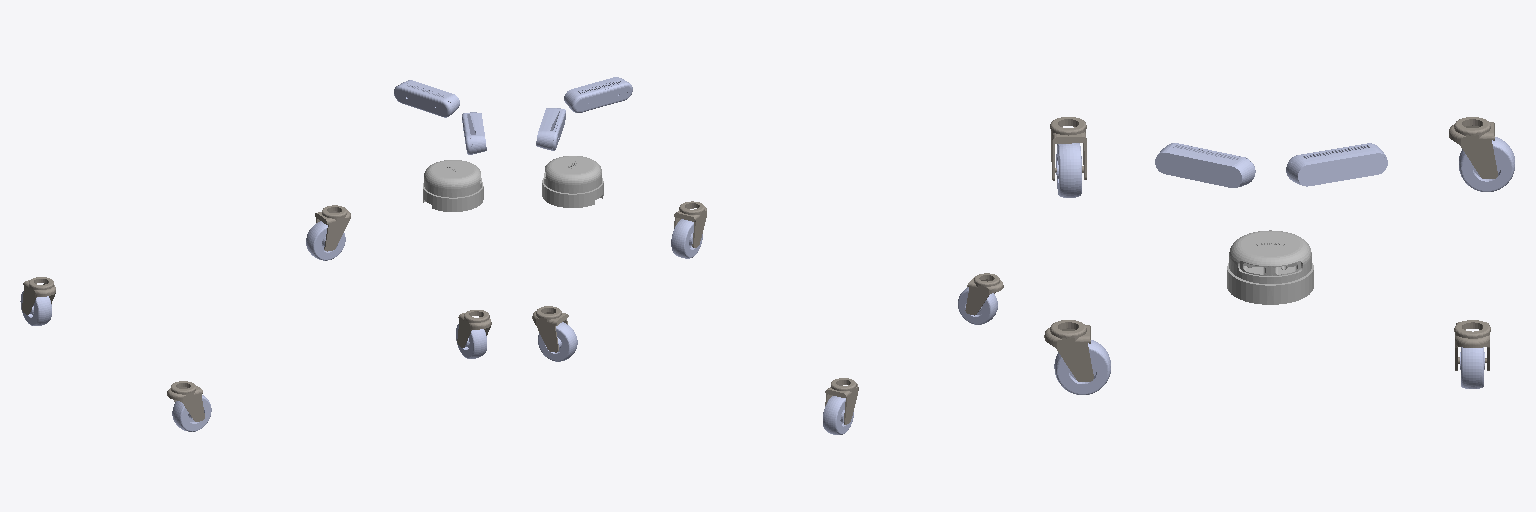
The robot description file, URDF, robot "finall":
<?xml version="1.0" encoding="utf-8"?>
<!-- This URDF was automatically created by SolidWorks to URDF Exporter! Originally created by [author] ([email redacted]) 
     Commit Version: 1.6.0-4-g7f85cfe  Build Version: 1.6.7995.38578
     For more information, please see http://wiki.ros.org/sw_urdf_exporter -->
<robot
  name="finall">

  <!-- base_link -->
  <link
    name="base_link">
    <inertial>
      <origin
        xyz="0.0423492651141056 -0.000629070656696568 0.448325523519396"
        rpy="0 0 0" />
      <mass
        value="13.3810993131387" />
      <inertia
        ixx="0.279429636735087"
        ixy="-4.46482663329585E-05"
        ixz="0.00338366620089039"
        iyy="0.334833172062916"
        iyz="7.7945750135019E-06"
        izz="0.495525363460596" />
    </inertial>
    <visual>
      <origin
        xyz="0 0 0"
        rpy="0 0 0" />
      <geometry>
        <mesh
          filename="package://finall/meshes/base_link.STL" />
      </geometry>
      <material
        name="">
        <color
          rgba="0.6 0.6 0.6 1" />
      </material>
    </visual>
    <collision>
      <origin
        xyz="0 0 0"
        rpy="0 0 0" />
      <geometry>
        <mesh
          filename="package://finall/meshes/base_link.STL" />
      </geometry>
    </collision>
  </link>

  <!-- fl_caster_holder_link -->
  <link
    name="fl_caster_holder_link">
    <inertial>
      <origin
        xyz="-0.00421505477259171 -0.0313090196734244 -3.92674485401832E-05"
        rpy="0 0 0" />
      <mass
        value="0.00858424854611749" />
      <inertia
        ixx="2.29970280094413E-06"
        ixy="4.04458941956851E-07"
        ixz="4.8440768889955E-12"
        iyy="2.0262374837434E-06"
        iyz="3.99725673641126E-13"
        izz="2.10686447199303E-06" />
    </inertial>
    <visual>
      <origin
        xyz="0 0 0"
        rpy="0 0 0" />
      <geometry>
        <mesh
          filename="package://finall/meshes/fl_caster_holder_link.STL" />
      </geometry>
      <material
        name="">
        <color
          rgba="0.647058823529412 0.619607843137255 0.588235294117647 1" />
      </material>
    </visual>
    <collision>
      <origin
        xyz="0 0 0"
        rpy="0 0 0" />
      <geometry>
        <mesh
          filename="package://finall/meshes/fl_caster_holder_link.STL" />
      </geometry>
    </collision>
  </link>
  <joint
    name="fl_caster_holder_joint"
    type="continuous">
    <origin
      xyz="0.215225039750229 0.1771 -0.0145388598876857"
      rpy="-1.5707963267949 0 0" />
    <parent
      link="base_link" />
    <child
      link="fl_caster_holder_link" />
    <axis
      xyz="0 1 0" />
  </joint>

  <!-- fl_caster_wheel_link -->
  <link
    name="fl_caster_wheel_link">
    <inertial>
      <origin
        xyz="-4.75314232417645E-16 3.33066907387547E-16 5.55111512312578E-17"
        rpy="0 0 0" />
      <mass
        value="0.0334173711421252" />
      <inertia
        ixx="1.06393339607218E-05"
        ixy="-1.64491415193783E-21"
        ixz="-1.4271892951523E-21"
        iyy="6.33951611873326E-06"
        iyz="-2.64697796016969E-22"
        izz="6.33951611873326E-06" />
    </inertial>
    <visual>
      <origin
        xyz="0 0 0"
        rpy="0 0 0" />
      <geometry>
        <mesh
          filename="package://finall/meshes/fl_caster_wheel_link.STL" />
      </geometry>
      <material
        name="">
        <color
          rgba="0.792156862745098 0.819607843137255 0.933333333333333 1" />
      </material>
    </visual>
    <collision>
      <origin
        xyz="0 0 0"
        rpy="0 0 0" />
      <geometry>
        <mesh
          filename="package://finall/meshes/fl_caster_wheel_link.STL" />
      </geometry>
    </collision>
  </link>
  <joint
    name="fl_caster_wheel_joint"
    type="continuous">
    <origin
      xyz="-0.0126379418294896 -0.00814162274155295 0"
      rpy="0.152452190017873 -1.5707963267949 0" />
    <parent
      link="fl_caster_holder_link" />
    <child
      link="fl_caster_wheel_link" />
    <axis
      xyz="1 0 0" />
  </joint>

  <!-- fr_caster_holder_link -->
  <link
    name="fr_caster_holder_link">
    <inertial>
      <origin
        xyz="-0.00421505477258211 -0.0313090196734245 -3.9267448532887E-05"
        rpy="0 0 0" />
      <mass
        value="0.00858424854611759" />
      <inertia
        ixx="2.29970280094413E-06"
        ixy="4.04458941956856E-07"
        ixz="4.8440768868714E-12"
        iyy="2.02623748374343E-06"
        iyz="3.99725673463493E-13"
        izz="2.10686447199304E-06" />
    </inertial>
    <visual>
      <origin
        xyz="0 0 0"
        rpy="0 0 0" />
      <geometry>
        <mesh
          filename="package://finall/meshes/fr_caster_holder_link.STL" />
      </geometry>
      <material
        name="">
        <color
          rgba="0.647058823529412 0.619607843137255 0.588235294117647 1" />
      </material>
    </visual>
    <collision>
      <origin
        xyz="0 0 0"
        rpy="0 0 0" />
      <geometry>
        <mesh
          filename="package://finall/meshes/fr_caster_holder_link.STL" />
      </geometry>
    </collision>
  </link>
  <joint
    name="fr_caster_holder_joint"
    type="continuous">
    <origin
      xyz="0.214825039750222 -0.177099999999992 -0.0145388598876857"
      rpy="-1.57079632679486 0 -1.5707963267949" />
    <parent
      link="base_link" />
    <child
      link="fr_caster_holder_link" />
    <axis
      xyz="0 1 0" />
  </joint>

  <!-- fr_caster_wheel_link -->
  <link
    name="fr_caster_wheel_link">
    <inertial>
      <origin
        xyz="9.99200722162641E-16 0 0"
        rpy="0 0 0" />
      <mass
        value="0.0334173711421252" />
      <inertia
        ixx="1.06393339607219E-05"
        ixy="-1.42607716470482E-21"
        ixz="5.96783662533785E-22"
        iyy="6.33951611873328E-06"
        iyz="-1.16467030247466E-21"
        izz="6.33951611873328E-06" />
    </inertial>
    <visual>
      <origin
        xyz="0 0 0"
        rpy="0 0 0" />
      <geometry>
        <mesh
          filename="package://finall/meshes/fr_caster_wheel_link.STL" />
      </geometry>
      <material
        name="">
        <color
          rgba="0.792156862745098 0.819607843137255 0.933333333333333 1" />
      </material>
    </visual>
    <collision>
      <origin
        xyz="0 0 0"
        rpy="0 0 0" />
      <geometry>
        <mesh
          filename="package://finall/meshes/fr_caster_wheel_link.STL" />
      </geometry>
    </collision>
  </link>
  <joint
    name="fr_caster_wheel_joint"
    type="continuous">
    <origin
      xyz="-0.0126379418294887 -0.00814162274155716 0"
      rpy="0.233129638410502 -1.5707963267949 0" />
    <parent
      link="fr_caster_holder_link" />
    <child
      link="fr_caster_wheel_link" />
    <axis
      xyz="1 0 0" />
  </joint>

  <!-- bl_caster_holder_link -->
  <link
    name="bl_caster_holder_link">
    <inertial>
      <origin
        xyz="-0.00421505477258809 -0.0313090196734239 -3.92674485399924E-05"
        rpy="0 0 0" />
      <mass
        value="0.00858424854611757" />
      <inertia
        ixx="2.29970280094412E-06"
        ixy="4.04458941956852E-07"
        ixz="4.84407687965927E-12"
        iyy="2.02623748374342E-06"
        iyz="3.99725670074543E-13"
        izz="2.10686447199303E-06" />
    </inertial>
    <visual>
      <origin
        xyz="0 0 0"
        rpy="0 0 0" />
      <geometry>
        <mesh
          filename="package://finall/meshes/bl_caster_holder_link.STL" />
      </geometry>
      <material
        name="">
        <color
          rgba="0.647058823529412 0.619607843137255 0.588235294117647 1" />
      </material>
    </visual>
    <collision>
      <origin
        xyz="0 0 0"
        rpy="0 0 0" />
      <geometry>
        <mesh
          filename="package://finall/meshes/bl_caster_holder_link.STL" />
      </geometry>
    </collision>
  </link>
  <joint
    name="bl_caster_holder_joint"
    type="continuous">
    <origin
      xyz="-0.20600856677299 0.177100000000002 -0.0145388598877"
      rpy="-1.57079632679486 0 -1.5707963267949" />
    <parent
      link="base_link" />
    <child
      link="bl_caster_holder_link" />
    <axis
      xyz="0 1 0" />
  </joint>

  <!-- bl_caster_wheel_link -->
  <link
    name="bl_caster_wheel_link">
    <inertial>
      <origin
        xyz="-1.88737914186277E-15 -4.30211422042248E-16 -4.66293670342566E-15"
        rpy="0 0 0" />
      <mass
        value="0.0334173711421252" />
      <inertia
        ixx="1.06393339607218E-05"
        ixy="2.26157180953148E-22"
        ixz="-3.95584656142489E-21"
        iyy="6.33951611873327E-06"
        iyz="-2.11758236813575E-22"
        izz="6.33951611873327E-06" />
    </inertial>
    <visual>
      <origin
        xyz="0 0 0"
        rpy="0 0 0" />
      <geometry>
        <mesh
          filename="package://finall/meshes/bl_caster_wheel_link.STL" />
      </geometry>
      <material
        name="">
        <color
          rgba="0.792156862745098 0.819607843137255 0.933333333333333 1" />
      </material>
    </visual>
    <collision>
      <origin
        xyz="0 0 0"
        rpy="0 0 0" />
      <geometry>
        <mesh
          filename="package://finall/meshes/bl_caster_wheel_link.STL" />
      </geometry>
    </collision>
  </link>
  <joint
    name="bl_caster_wheel_joint"
    type="continuous">
    <origin
      xyz="-0.0126379418294879 -0.00814162274155106 0"
      rpy="1.43676256222585 -1.5707963267949 0" />
    <parent
      link="bl_caster_holder_link" />
    <child
      link="bl_caster_wheel_link" />
    <axis
      xyz="1 0 0" />
  </joint>

  <!-- br_caster_holder_link -->
  <link
    name="br_caster_holder_link">
    <inertial>
      <origin
        xyz="-0.00421505339317496 -0.0313090200729957 -3.92653331434123E-05"
        rpy="0 0 0" />
      <mass
        value="0.00858425017431507" />
      <inertia
        ixx="2.29970246060649E-06"
        ixy="4.0445898427533E-07"
        ixz="4.74751800591169E-12"
        iyy="2.02623813220835E-06"
        iyz="3.64281471170154E-13"
        izz="2.1068655004653E-06" />
    </inertial>
    <visual>
      <origin
        xyz="0 0 0"
        rpy="0 0 0" />
      <geometry>
        <mesh
          filename="package://finall/meshes/br_caster_holder_link.STL" />
      </geometry>
      <material
        name="">
        <color
          rgba="0.647058823529412 0.619607843137255 0.588235294117647 1" />
      </material>
    </visual>
    <collision>
      <origin
        xyz="0 0 0"
        rpy="0 0 0" />
      <geometry>
        <mesh
          filename="package://finall/meshes/br_caster_holder_link.STL" />
      </geometry>
    </collision>
  </link>
  <joint
    name="br_caster_holder_joint"
    type="continuous">
    <origin
      xyz="-0.206408566772991 -0.177100000000006 -0.014538859887695"
      rpy="-1.57079632679489 0 -3.08172138398829" />
    <parent
      link="base_link" />
    <child
      link="br_caster_holder_link" />
    <axis
      xyz="0 1 0" />
  </joint>

  <!-- br_caster_wheel_link -->
  <link
    name="br_caster_wheel_link">
    <inertial>
      <origin
        xyz="-5.55111512312578E-16 5.55111512312578E-17 1.11022302462516E-16"
        rpy="0 0 0" />
      <mass
        value="0.0334173711421251" />
      <inertia
        ixx="1.06393339607218E-05"
        ixy="9.9971099854192E-23"
        ixz="-2.04611396321117E-20"
        iyy="6.33951611873324E-06"
        iyz="-1.44212035586327E-22"
        izz="6.33951611873324E-06" />
    </inertial>
    <visual>
      <origin
        xyz="0 0 0"
        rpy="0 0 0" />
      <geometry>
        <mesh
          filename="package://finall/meshes/br_caster_wheel_link.STL" />
      </geometry>
      <material
        name="">
        <color
          rgba="0.792156862745098 0.819607843137255 0.933333333333333 1" />
      </material>
    </visual>
    <collision>
      <origin
        xyz="0 0 0"
        rpy="0 0 0" />
      <geometry>
        <mesh
          filename="package://finall/meshes/br_caster_wheel_link.STL" />
      </geometry>
    </collision>
  </link>
  <joint
    name="br_caster_wheel_joint"
    type="continuous">
    <origin
      xyz="-0.0126379418294893 -0.00814162274154767 0"
      rpy="0 -1.5707963267949 0" />
    <parent
      link="br_caster_holder_link" />
    <child
      link="br_caster_wheel_link" />
    <axis
      xyz="1 0 0" />
  </joint>

  <!-- drive_left_link -->
  <link
    name="drive_left_link">
    <inertial>
      <origin
        xyz="0.050466810771292 -7.38177127468376E-06 -1.11022302462516E-16"
        rpy="0 0 0" />
      <mass
        value="0.989823090734287" />
      <inertia
        ixx="0.00288690083815091"
        ixy="3.99025411481449E-07"
        ixz="-3.81330262386946E-19"
        iyy="0.00167927281844749"
        iyz="1.86038687724087E-08"
        izz="0.00167922796416484" />
    </inertial>
    <visual>
      <origin
        xyz="0 0 0"
        rpy="0 0 0" />
      <geometry>
        <mesh
          filename="package://finall/meshes/drive_left_link.STL" />
      </geometry>
      <material
        name="">
        <color
          rgba="0.2 0.2 0.2 1" />
      </material>
    </visual>
    <collision>
      <origin
        xyz="0 0 0"
        rpy="0 0 0" />
      <geometry>
        <mesh
          filename="package://finall/meshes/drive_left_link.STL" />
      </geometry>
    </collision>
  </link>
  <joint
    name="drive_left_joint"
    type="continuous">
    <origin
      xyz="-7.34417430403589E-06 0.254110517 0.0578240000"
      rpy="-0.10097 0 -1.5708" />
    <parent
      link="base_link" />
    <child
      link="drive_left_link" />
    <axis
      xyz="1 0 0" />
  </joint>

  <!-- drive_right_link -->
  <link
    name="drive_right_link">
    <inertial>
      <origin
        xyz="0.0504668107712919 -7.38177127451722E-06 -5.55111512312578E-17"
        rpy="0 0 0" />
      <mass
        value="0.989823090734286" />
      <inertia
        ixx="0.00288690083815089"
        ixy="3.99025411481456E-07"
        ixz="1.23303512574095E-18"
        iyy="0.00167927281844747"
        iyz="1.86038687762169E-08"
        izz="0.00167922796416484" />
    </inertial>
    <visual>
      <origin
        xyz="0 0 0"
        rpy="0 0 0" />
      <geometry>
        <mesh
          filename="package://finall/meshes/drive_right_link.STL" />
      </geometry>
      <material
        name="">
        <color
          rgba="0.2 0.2 0.2 1" />
      </material>
    </visual>
    <collision>
      <origin
        xyz="0 0 0"
        rpy="0 0 0" />
      <geometry>
        <mesh
          filename="package://finall/meshes/drive_right_link.STL" />
      </geometry>
    </collision>
  </link>
  <joint
    name="drive_right_joint"
    type="continuous">
    <origin
      xyz="7.34417430392487E-06 -0.254110517 0.0578240000"
      rpy="-0.10097 0 1.5708" />
    <parent
      link="base_link" />
    <child
      link="drive_right_link" />
    <axis
      xyz="1 0 0" />
  </joint>

  <!-- front_lidar_link -->
  <link
    name="front_lidar_link">
    <inertial>
      <origin
        xyz="-1.49381448587005E-05 0.00999854805941408 -0.0385654544333321"
        rpy="0 0 0" />
      <mass
        value="0.165382751635992" />
      <inertia
        ixx="7.51902914938724E-05"
        ixy="2.88601572510331E-08"
        ixz="4.84717640920744E-08"
        iyy="0.000109946753058708"
        iyz="2.18479443959807E-06"
        izz="7.88651836105336E-05" />
    </inertial>
    <visual>
      <origin
        xyz="0 0 0"
        rpy="0 0 0" />
      <geometry>
        <mesh
          filename="package://finall/meshes/front_lidar_link.STL" />
      </geometry>
      <material
        name="">
        <color
          rgba="0.752941176470588 0.752941176470588 0.752941176470588 0.4" />
      </material>
    </visual>
    <collision>
      <origin
        xyz="0 0 0"
        rpy="0 0 0" />
      <geometry>
        <mesh
          filename="package://finall/meshes/front_lidar_link.STL" />
      </geometry>
    </collision>
  </link>
  <joint
    name="front_lidar_joint"
    type="fixed">
    <origin
      xyz="0.32109 0 0.1123"
      rpy="1.5708 0 1.5708" />
    <parent
      link="base_link" />
    <child
      link="front_lidar_link" />
    <axis
      xyz="0 0 0" />
  </joint>

  <!-- left_rs_link -->
  <link
    name="left_rs_link">
    <inertial>
      <origin
        xyz="0.000246312680102403 -6.06249958345906E-05 -0.0130484937748696"
        rpy="0 0 0" />
      <mass
        value="0.0447521563033388" />
      <inertia
        ixx="3.94471984129113E-06"
        ixy="-2.81390454906688E-09"
        ixz="2.44352072551833E-07"
        iyy="2.73620515950668E-05"
        iyz="-1.18478074060764E-09"
        izz="2.72774911836403E-05" />
    </inertial>
    <visual>
      <origin
        xyz="0 0 0"
        rpy="0 0 0" />
      <geometry>
        <mesh
          filename="package://finall/meshes/left_rs_link.STL" />
      </geometry>
      <material
        name="">
        <color
          rgba="0.792156862745098 0.819607843137255 0.933333333333333 1" />
      </material>
    </visual>
    <collision>
      <origin
        xyz="0 0 0"
        rpy="0 0 0" />
      <geometry>
        <mesh
          filename="package://finall/meshes/left_rs_link.STL" />
      </geometry>
    </collision>
  </link>
  <joint
    name="left_rs_joint"
    type="fixed">
    <origin
      xyz="0.29154 0.063516 0.2198"
      rpy="1.4628 0 1.9502" />
    <parent
      link="base_link" />
    <child
      link="left_rs_link" />
    <axis
      xyz="0 0 0" />
  </joint>

  <!-- right_rs_link -->
  <link
    name="right_rs_link">
    <inertial>
      <origin
        xyz="0.000246214165129544 -6.06046655313719E-05 -0.0130485162930174"
        rpy="0 0 0" />
      <mass
        value="0.0447522720135289" />
      <inertia
        ixx="3.94473364618722E-06"
        ixy="-2.8266862706328E-09"
        ixz="2.44342132311179E-07"
        iyy="2.73621025309841E-05"
        iyz="-1.18354833773588E-09"
        izz="2.72775448530414E-05" />
    </inertial>
    <visual>
      <origin
        xyz="0 0 0"
        rpy="0 0 0" />
      <geometry>
        <mesh
          filename="package://finall/meshes/right_rs_link.STL" />
      </geometry>
      <material
        name="">
        <color
          rgba="0.792156862745098 0.819607843137255 0.933333333333333 1" />
      </material>
    </visual>
    <collision>
      <origin
        xyz="0 0 0"
        rpy="0 0 0" />
      <geometry>
        <mesh
          filename="package://finall/meshes/right_rs_link.STL" />
      </geometry>
    </collision>
  </link>
  <joint
    name="right_rs_joint"
    type="fixed">
    <origin
      xyz="0.291429416827163 -0.0630797813490415 0.219229621554835"
      rpy="1.46278949747624 0 1.11167035446073" />
    <parent
      link="base_link" />
    <child
      link="right_rs_link" />
    <axis
      xyz="0 0 0" />
  </joint>
</robot>

--- Facts derived from the render (not from the file) ---
The picture shows the robot from 3 angles, left to right: view 1: azimuth 30°, elevation 25°; view 2: azimuth 150°, elevation 25°; view 3: azimuth 270°, elevation 25°; orthographic projection.
Model finall with 14 links and 13 joints (10 continuous, 3 fixed), rooted at base_link, posed all joints at 0.
Visible links, largest first — view 1: front_lidar_link, left_rs_link, fl_caster_holder_link, br_caster_holder_link, right_rs_link, fl_caster_wheel_link, fr_caster_holder_link, bl_caster_holder_link, br_caster_wheel_link, bl_caster_wheel_link, fr_caster_wheel_link; view 2: front_lidar_link, right_rs_link, fl_caster_holder_link, br_caster_holder_link, left_rs_link, fl_caster_wheel_link, fr_caster_wheel_link, bl_caster_wheel_link, bl_caster_holder_link, fr_caster_holder_link, br_caster_wheel_link; view 3: front_lidar_link, left_rs_link, right_rs_link, fr_caster_holder_link, bl_caster_holder_link, fr_caster_wheel_link, bl_caster_wheel_link, br_caster_wheel_link, br_caster_holder_link, fl_caster_holder_link, fl_caster_wheel_link.
Link boxes in pixels (left/top/right/bottom): front_lidar_link: left=423, top=160, right=483, bottom=211; left_rs_link: left=394, top=80, right=459, bottom=117; fl_caster_holder_link: left=315, top=205, right=350, bottom=251; br_caster_holder_link: left=167, top=381, right=204, bottom=421; right_rs_link: left=462, top=112, right=486, bottom=154; fl_caster_wheel_link: left=306, top=221, right=345, bottom=260; fr_caster_holder_link: left=457, top=310, right=491, bottom=347; bl_caster_holder_link: left=22, top=277, right=55, bottom=314; br_caster_wheel_link: left=172, top=395, right=211, bottom=431; bl_caster_wheel_link: left=20, top=291, right=51, bottom=325; fr_caster_wheel_link: left=456, top=324, right=486, bottom=358; front_lidar_link: left=542, top=156, right=603, bottom=207; right_rs_link: left=564, top=77, right=632, bottom=112; fl_caster_holder_link: left=532, top=306, right=568, bottom=352; br_caster_holder_link: left=965, top=273, right=1003, bottom=315; left_rs_link: left=536, top=108, right=565, bottom=150; fl_caster_wheel_link: left=538, top=322, right=577, bottom=361; fr_caster_wheel_link: left=671, top=219, right=702, bottom=258; bl_caster_wheel_link: left=823, top=396, right=853, bottom=434; bl_caster_holder_link: left=825, top=378, right=858, bottom=424; fr_caster_holder_link: left=674, top=201, right=706, bottom=247; br_caster_wheel_link: left=958, top=287, right=997, bottom=324; front_lidar_link: left=1227, top=230, right=1313, bottom=304; left_rs_link: left=1286, top=143, right=1387, bottom=186; right_rs_link: left=1155, top=143, right=1255, bottom=187; fr_caster_holder_link: left=1044, top=320, right=1093, bottom=381; bl_caster_holder_link: left=1449, top=117, right=1497, bottom=178; fr_caster_wheel_link: left=1054, top=340, right=1110, bottom=394; bl_caster_wheel_link: left=1459, top=137, right=1514, bottom=191; br_caster_wheel_link: left=1056, top=143, right=1081, bottom=197; br_caster_holder_link: left=1050, top=117, right=1086, bottom=180; fl_caster_holder_link: left=1454, top=320, right=1490, bottom=370; fl_caster_wheel_link: left=1460, top=347, right=1484, bottom=388.
Size in the robot's own frame: 0.5485 by 0.4128 by 0.2618 metres.
Meshes: 14 distinct files referenced, 11 mesh visuals loaded (11 binary STL); not drawn: 3 (reference not matched to a file when rendering).
